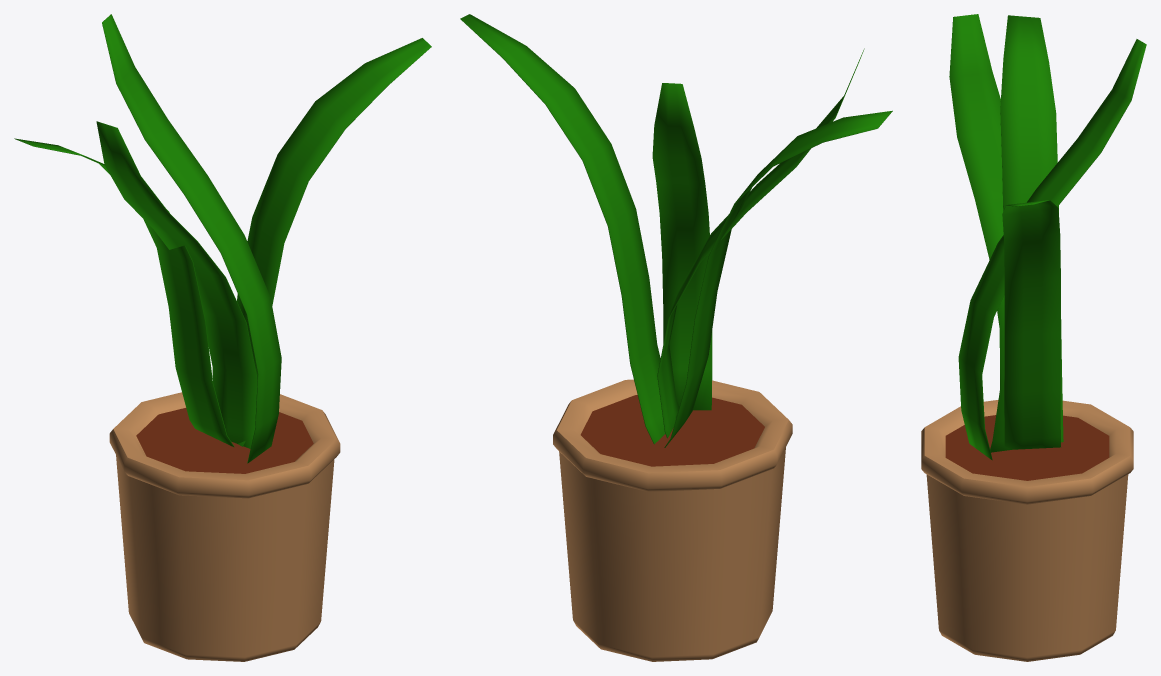
Rendered from planta.fbx.
The picture shows the model from 3 angles, left to right: view 1: azimuth 30°, elevation 25°; view 2: azimuth 150°, elevation 25°; view 3: azimuth 270°, elevation 25°; orthographic projection. The views are drawn at different scales.
Visible parts, largest first — view 1: Planta; view 2: Planta; view 3: Planta.
Part boxes in pixels (x1=…): Planta: x1=14, y1=14, x2=431, y2=661; Planta: x1=460, y1=14, x2=892, y2=661; Planta: x1=921, y1=14, x2=1146, y2=661.
Bounding box in the file's own units: 106 × 144 × 52.88.
